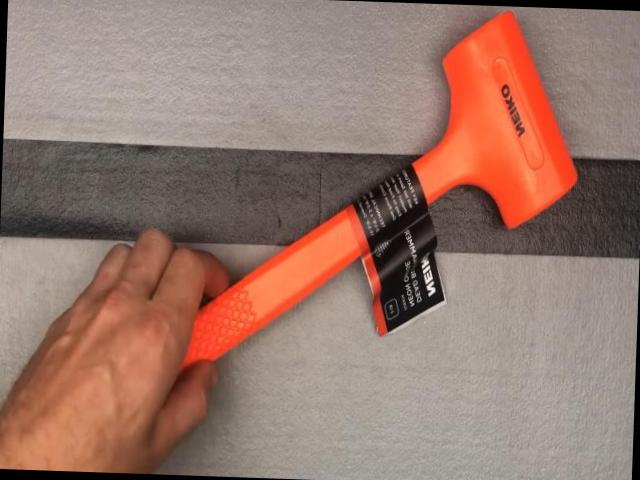hammer: (58, 0, 581, 458)
